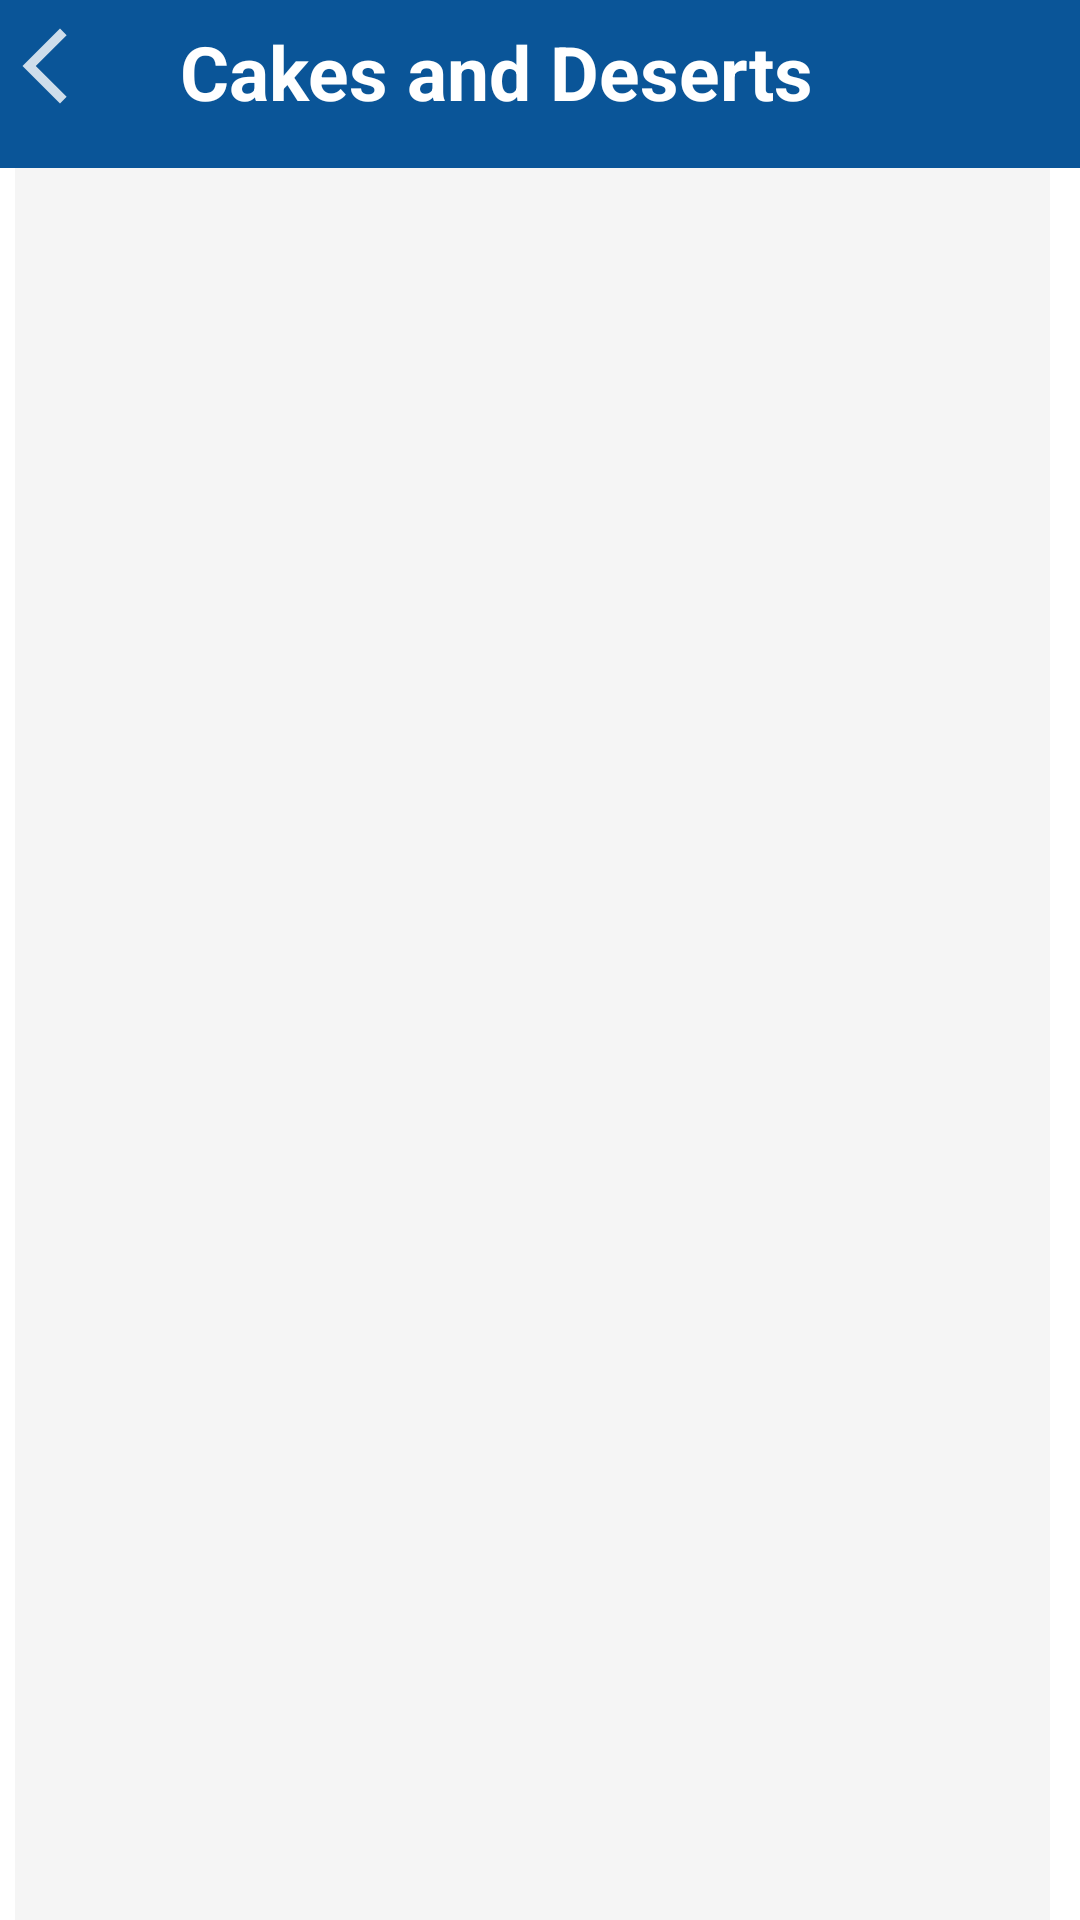

Where to tap for icons on this 1080x1920 app screen, as (x,y):
arrow back: (45,66)
